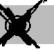not correct: (0, 0, 45, 49)
